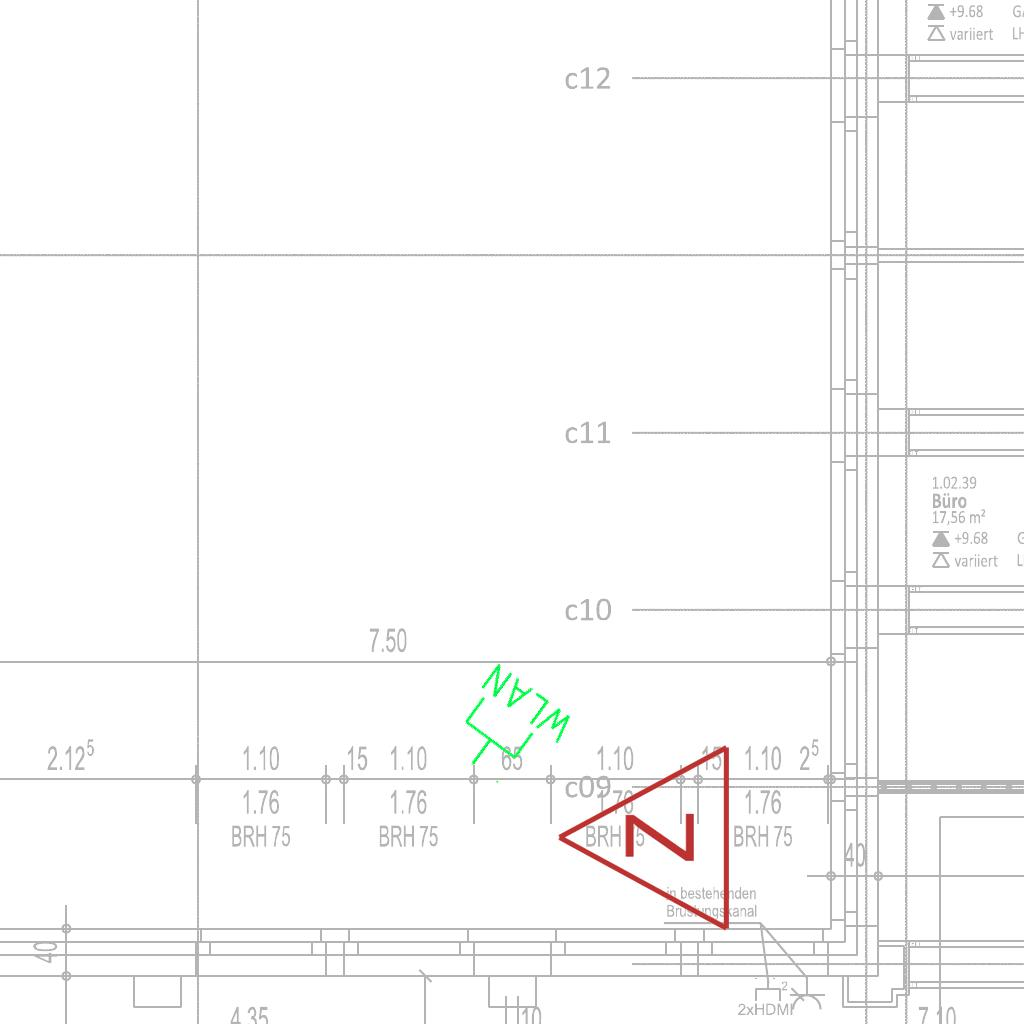WLAN: (435, 657, 583, 804)
Zimmersignalleuchte: (544, 742, 744, 938)
